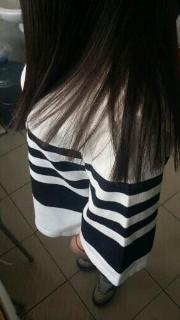long sleeve top: (25, 55, 177, 286)
